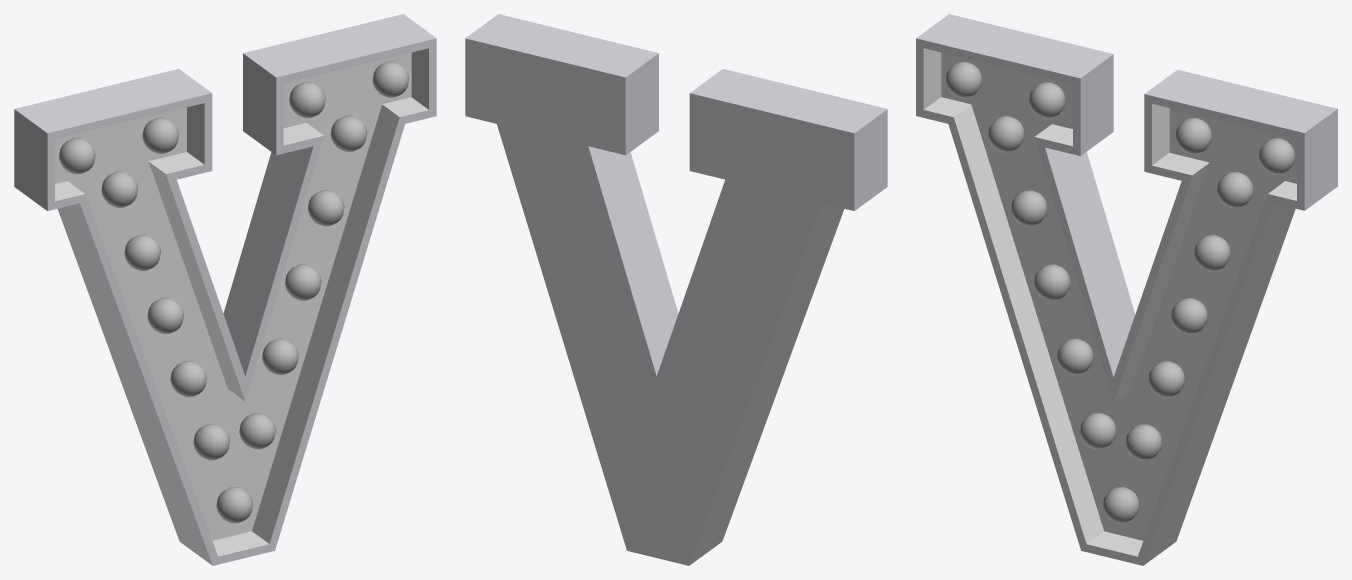
The model's file is LettersBulb01_V.FBX.
3 renders of one model, left to right at view 1: azimuth 30°, elevation 25°; view 2: azimuth 150°, elevation 25°; view 3: azimuth 330°, elevation 25°, orthographic.
Visible parts, largest first — view 1: LettersBulb01_V; view 2: LettersBulb01_V; view 3: LettersBulb01_V.
Part boxes in pixels (x1,y1,x2,y2): LettersBulb01_V: (14,14,436,565); LettersBulb01_V: (465,14,887,565); LettersBulb01_V: (916,14,1337,565).
Size of what is drawn, in the model's own units: 1.05 by 1.22 by 0.1563.
